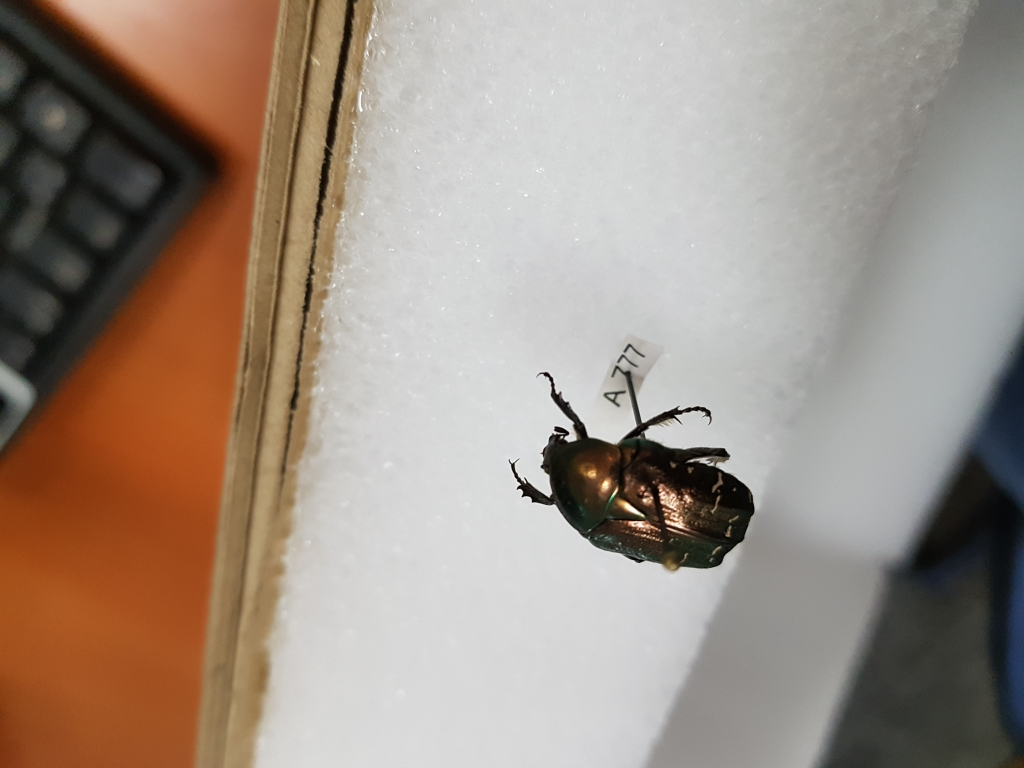Cetonia_aurata: (512, 360, 756, 591)
